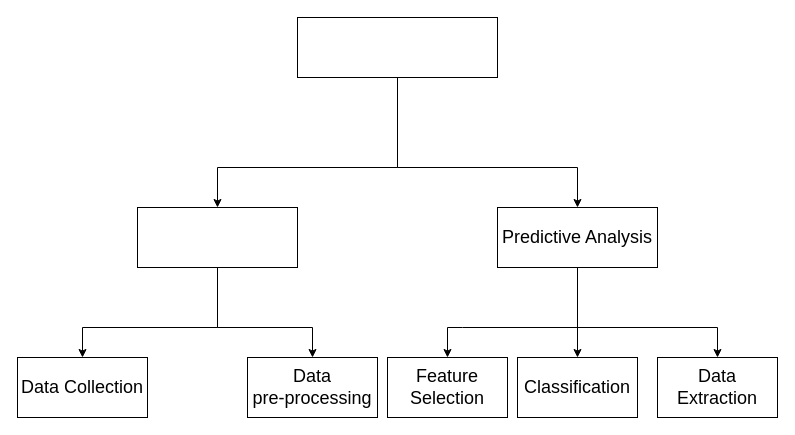
The diagram is 795 pixels wide and 435 high, and some of its shapes have lost their labels. The centre of each missing label's shape, as x and y in pixels:
Data Analysis: point 397,47
Data modelling: point 217,237
